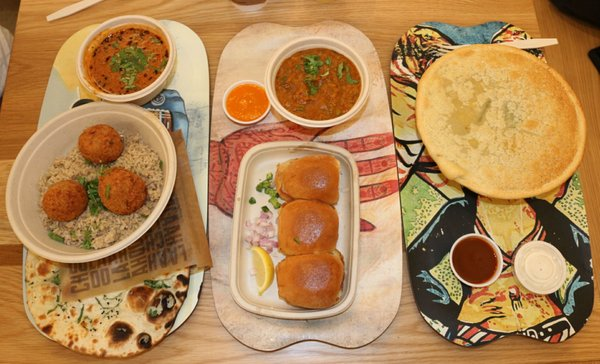pizza: (450, 233, 508, 290), (229, 0, 269, 12)
sushi: (5, 100, 178, 263), (231, 140, 360, 320), (266, 36, 371, 129), (75, 16, 177, 105), (223, 80, 271, 126)
taco: (223, 81, 270, 125)
